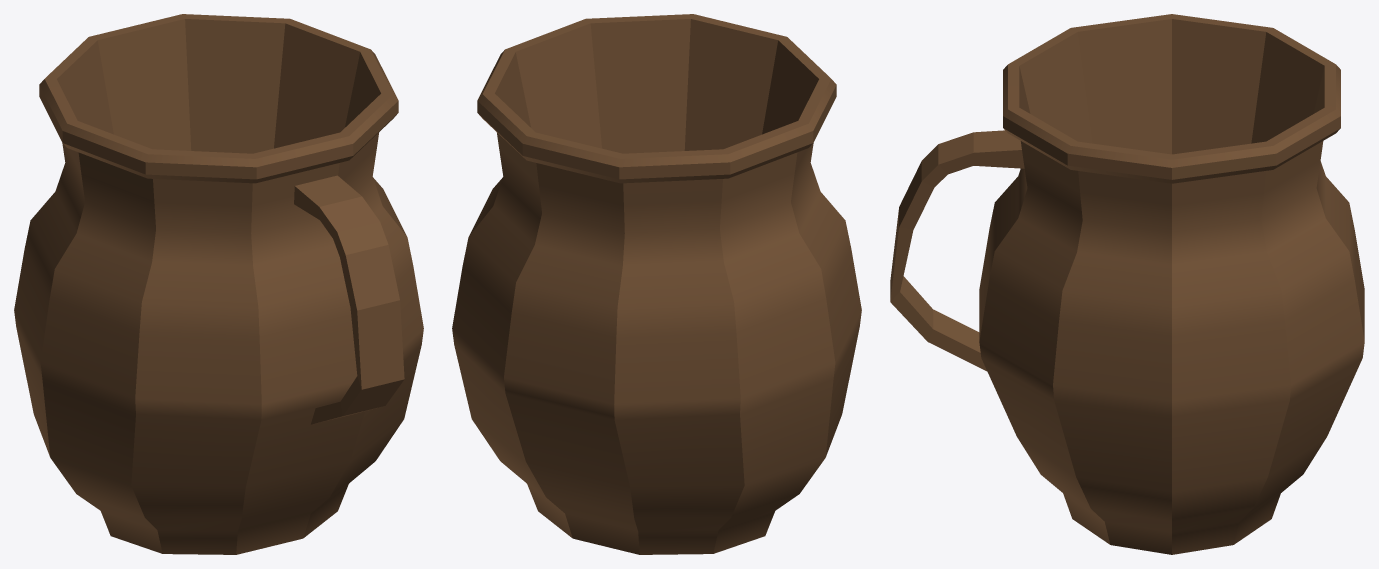
The model's file is Clay_Pot_Four.fbx.
3 views of the same model, side by side, from view 1: azimuth 30°, elevation 25°; view 2: azimuth 150°, elevation 25°; view 3: azimuth 270°, elevation 25° (orthographic).
Visible parts, largest first — view 1: Clay_Pot_Four; view 2: Clay_Pot_Four; view 3: Clay_Pot_Four.
Boxes of the visible parts, x1,y1,x2,y2 form: Clay_Pot_Four: (14, 14, 423, 554); Clay_Pot_Four: (452, 14, 861, 554); Clay_Pot_Four: (890, 14, 1364, 554).
Size of the model in its own units: 1 by 1.14 by 1.18.
